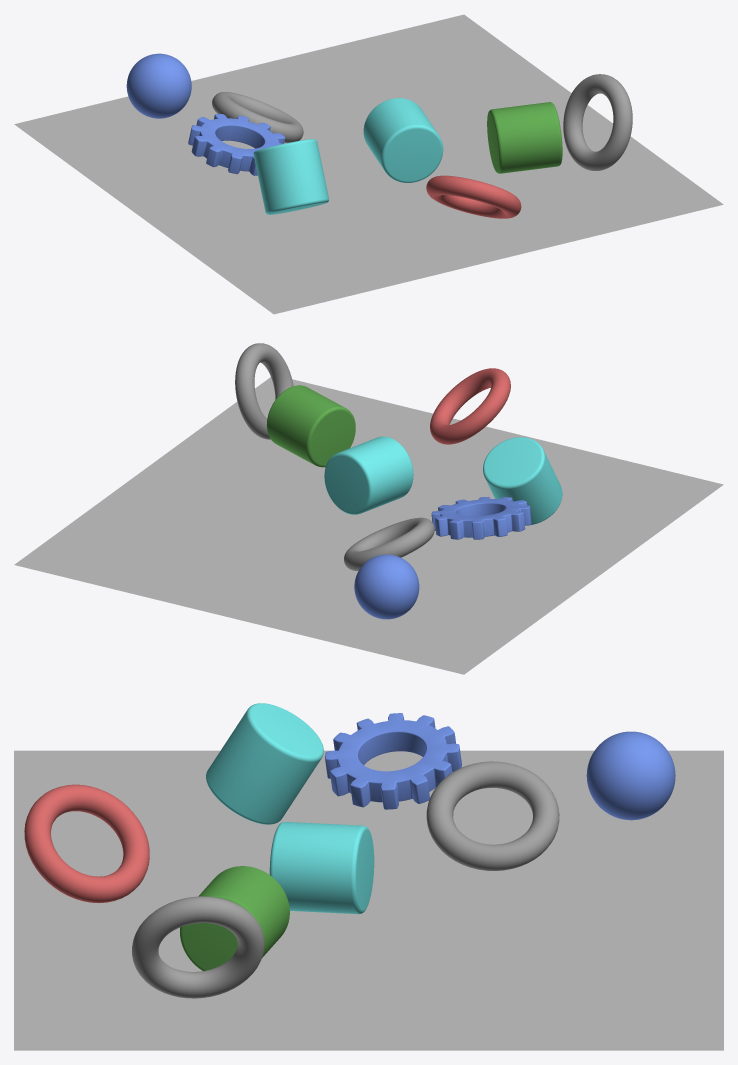
The picture shows the model from 3 angles, top to bottom: view 1: azimuth 30°, elevation 25°; view 2: azimuth 150°, elevation 25°; view 3: azimuth 270°, elevation 25°; orthographic projection. The views are drawn at different scales.
Parts seen in each view (by area): view 1: Cube, FileBasedObject.001, FileBasedObject.004, FileBasedObject.005, FileBasedObject, FileBasedObject.003, FileBasedObject.007, FileBasedObject.006, FileBasedObject.002; view 2: Cube, FileBasedObject.001, FileBasedObject.004, FileBasedObject.005, FileBasedObject.006, FileBasedObject.003, FileBasedObject.007, FileBasedObject, FileBasedObject.002; view 3: Cube, FileBasedObject.005, FileBasedObject.003, FileBasedObject.001, FileBasedObject.002, FileBasedObject.006, FileBasedObject, FileBasedObject.007, FileBasedObject.004.
Part boxes in pixels (bbox=[...]): Cube: bbox=[14, 14, 723, 314]; FileBasedObject.001: bbox=[363, 98, 443, 182]; FileBasedObject.004: bbox=[487, 102, 562, 173]; FileBasedObject.005: bbox=[253, 139, 328, 214]; FileBasedObject: bbox=[563, 74, 632, 170]; FileBasedObject.003: bbox=[188, 114, 285, 175]; FileBasedObject.007: bbox=[126, 53, 191, 118]; FileBasedObject.006: bbox=[426, 175, 521, 218]; FileBasedObject.002: bbox=[212, 92, 303, 142]; Cube: bbox=[14, 377, 723, 674]; FileBasedObject.001: bbox=[324, 436, 413, 514]; FileBasedObject.004: bbox=[266, 385, 355, 467]; FileBasedObject.005: bbox=[483, 437, 562, 525]; FileBasedObject.006: bbox=[430, 368, 510, 444]; FileBasedObject.003: bbox=[431, 496, 531, 539]; FileBasedObject.007: bbox=[354, 554, 419, 619]; FileBasedObject: bbox=[235, 343, 293, 439]; FileBasedObject.002: bbox=[344, 517, 434, 570]; Cube: bbox=[14, 750, 723, 1050]; FileBasedObject.005: bbox=[206, 703, 323, 824]; FileBasedObject.003: bbox=[325, 713, 461, 809]; FileBasedObject.001: bbox=[269, 822, 374, 914]; FileBasedObject.002: bbox=[426, 761, 559, 870]; FileBasedObject.006: bbox=[24, 784, 149, 903]; FileBasedObject: bbox=[132, 896, 264, 998]; FileBasedObject.007: bbox=[586, 731, 675, 820]; FileBasedObject.004: bbox=[180, 866, 289, 970].
Bounding box in the file's own units: 8 × 1.51 × 8.
